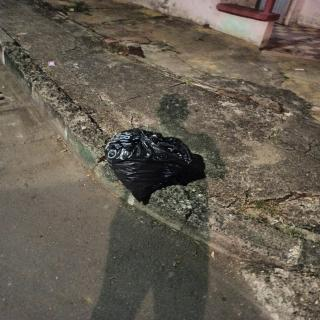Garbage: (101, 128, 209, 207)
